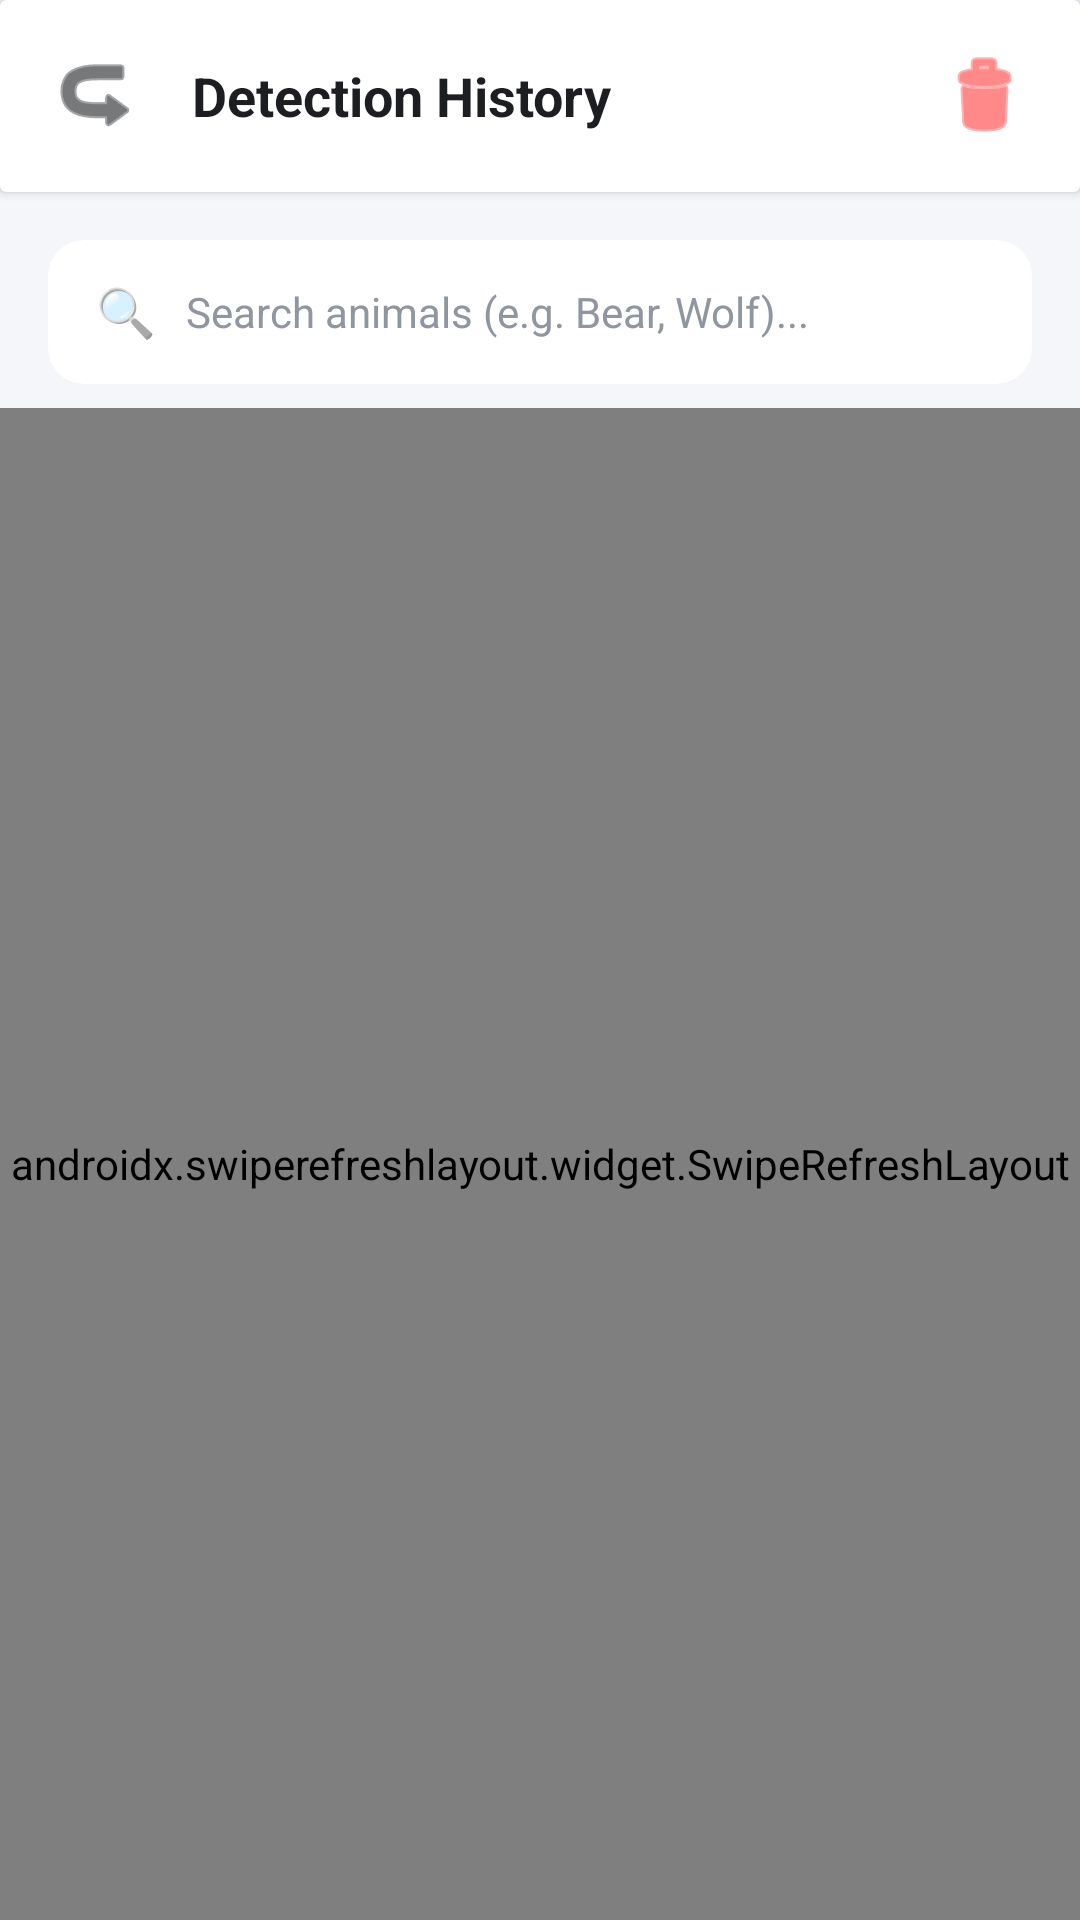

Icon click points for this 1080w x 1920h phone screenshot, format point (x, y):
Clear All: point (984, 94)
